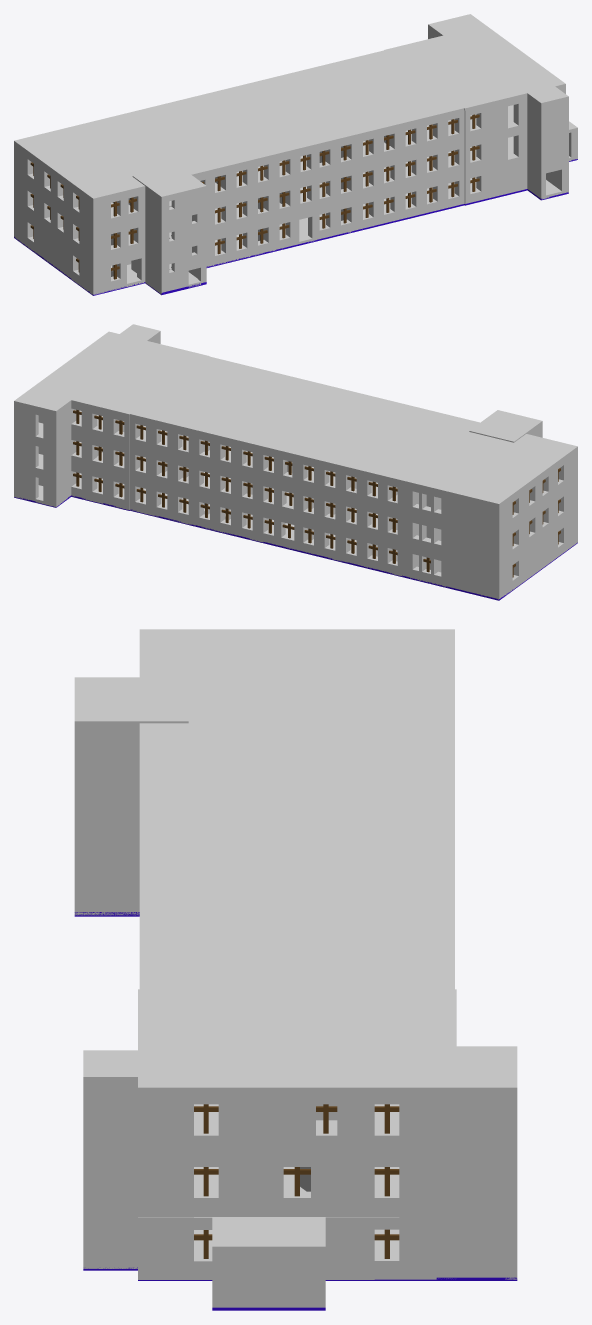
The model's file is mladebuky.gltf.
3 renders of one model, top to bottom at view 1: azimuth 30°, elevation 25°; view 2: azimuth 150°, elevation 25°; view 3: azimuth 270°, elevation 25°, orthographic. The views are drawn at different scales.
Visible parts, largest first — view 1: zbytekstrechy-patro-Střecha, Prizemi-patro-Přízemí, 2.patro-patro-2._Patro, 1.patro-patro-1._Patro; view 2: zbytekstrechy-patro-Střecha, Prizemi-patro-Přízemí, 2.patro-patro-2._Patro, 1.patro-patro-1._Patro; view 3: zbytekstrechy-patro-Střecha, Prizemi-patro-Přízemí, 2.patro-patro-2._Patro, 1.patro-patro-1._Patro.
Part boxes in pixels (x1,y1,x2,y2): zbytekstrechy-patro-Střecha: (14,14,568,200); Prizemi-patro-Přízemí: (14,121,577,295); 2.patro-patro-2._Patro: (14,26,568,232); 1.patro-patro-1._Patro: (14,127,568,263); zbytekstrechy-patro-Střecha: (14,324,577,505); Prizemi-patro-Přízemí: (14,465,577,600); 2.patro-patro-2._Patro: (14,333,577,537); 1.patro-patro-1._Patro: (14,433,577,568); zbytekstrechy-patro-Střecha: (74,629,517,1091); Prizemi-patro-Přízemí: (74,852,517,1310); 2.patro-patro-2._Patro: (74,727,517,1154); 1.patro-patro-1._Patro: (74,790,517,1216).
Bounding box in the file's own units: 1337 × 250 × 512.
